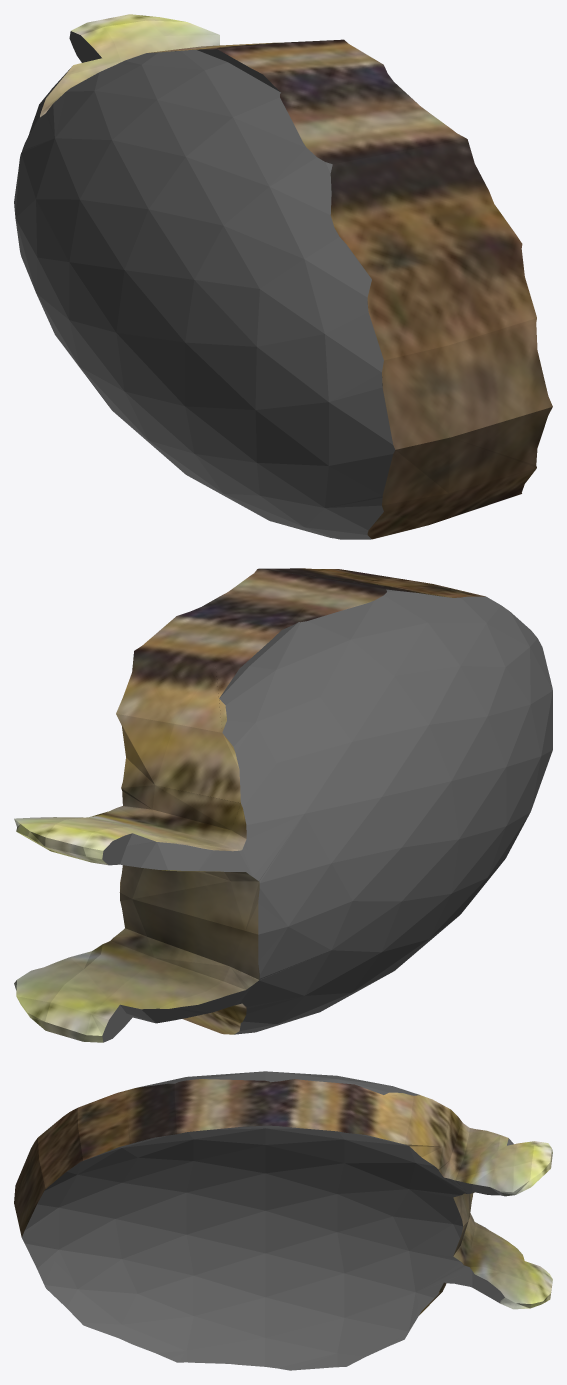
The picture shows the model from 3 angles, top to bottom: view 1: azimuth 30°, elevation 25°; view 2: azimuth 150°, elevation 25°; view 3: azimuth 270°, elevation 25°; orthographic projection. The views are drawn at different scales.
Visible parts, largest first — view 1: link_6_visual; view 2: link_6_visual; view 3: link_6_visual.
Boxes of the visible parts, x1,y1,x2,y2 form: link_6_visual: (14, 14, 552, 539); link_6_visual: (14, 568, 552, 1042); link_6_visual: (14, 1071, 552, 1370).
Size of the model in its own units: 0.00157 by 0.00206 by 0.00381.
1 material, 1 textured.
